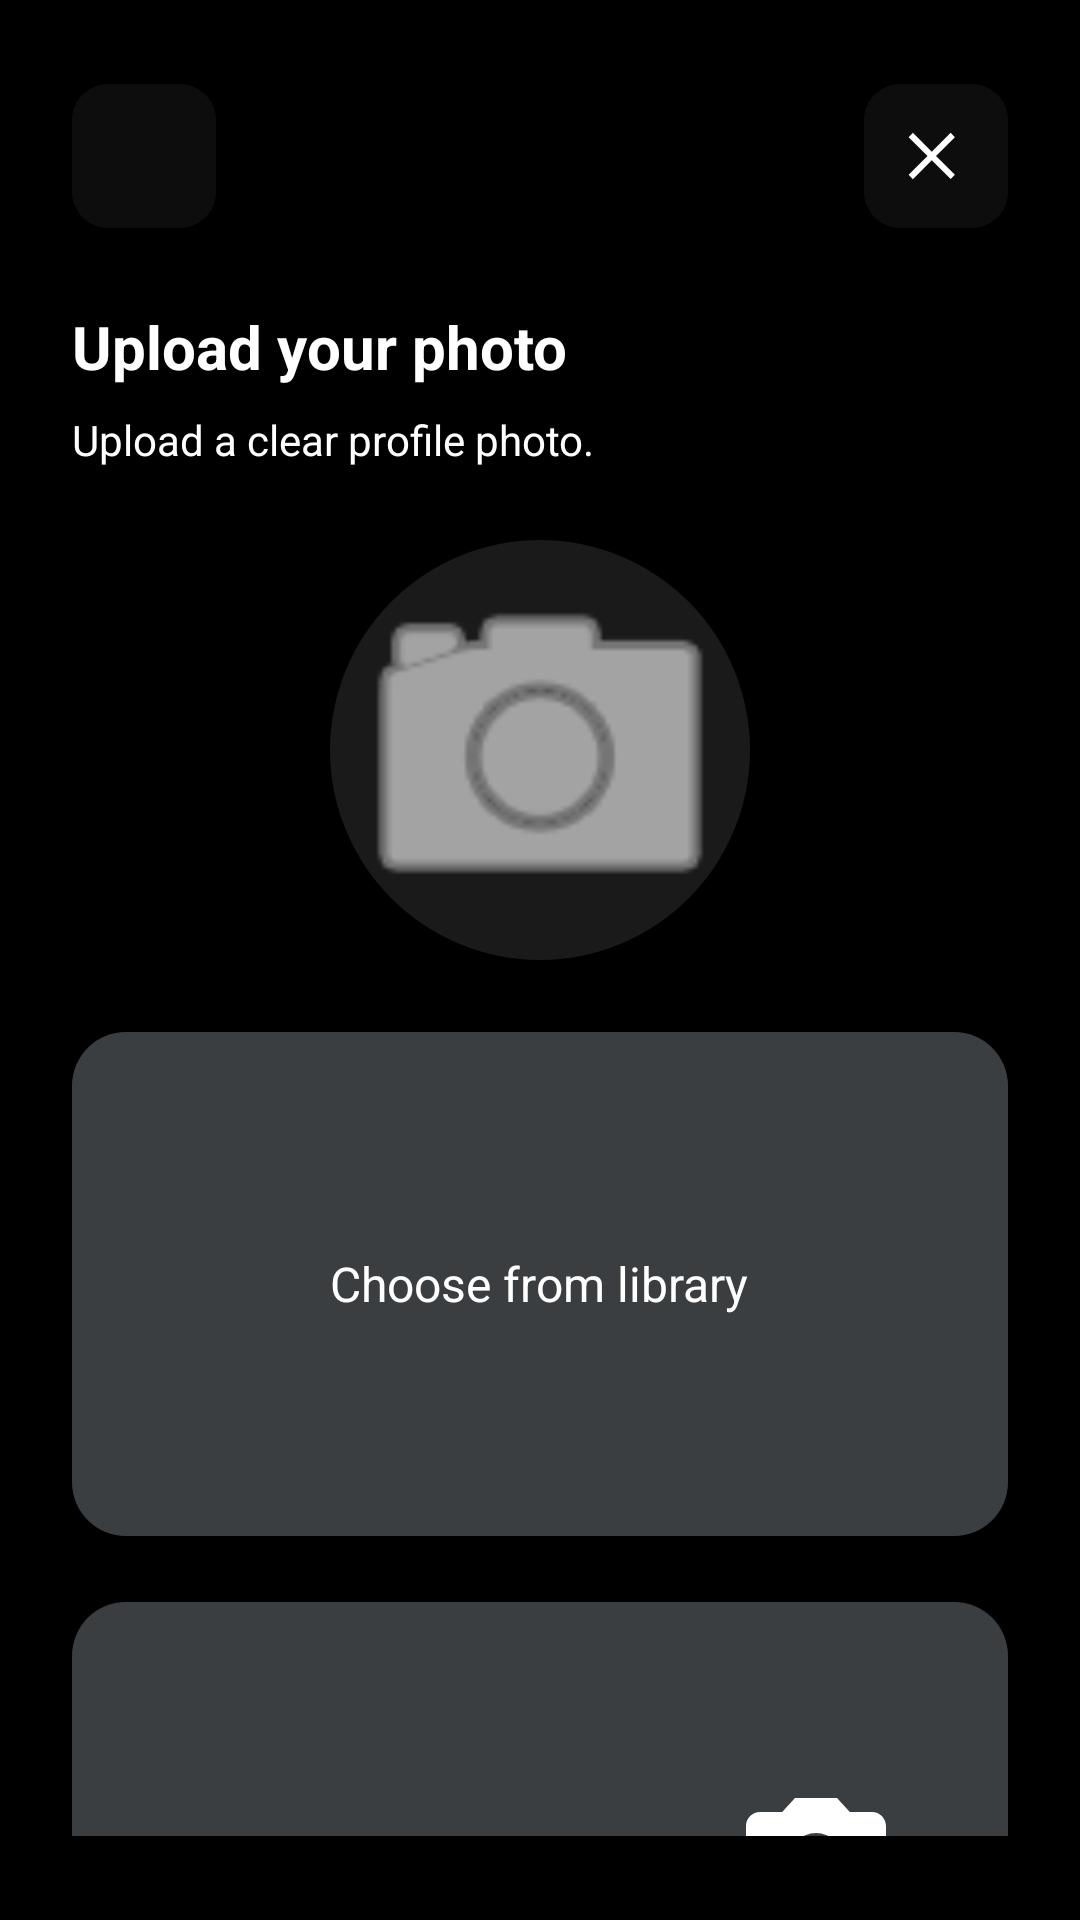

Named icons in this screenshot (1080x1920) and their bounding boxes, (x1, y1, x2, y2):
Close: (864, 84, 1008, 228)
